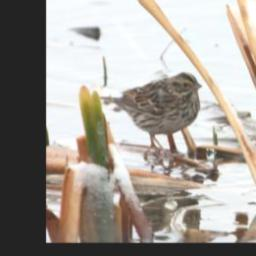Sparrow: (99, 70, 204, 164)
